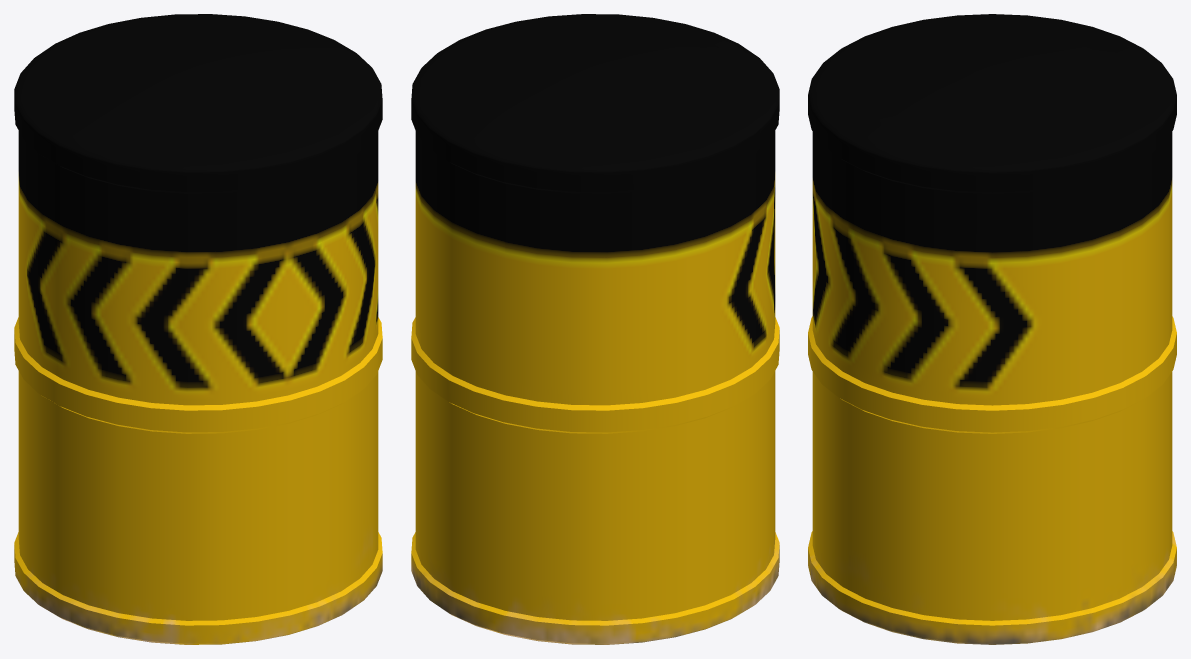
File: Low_OutDoor_02.fbx
3 renders of one model, left to right at view 1: azimuth 30°, elevation 25°; view 2: azimuth 150°, elevation 25°; view 3: azimuth 270°, elevation 25°, orthographic.
Parts seen in each view (by area): view 1: Low_OutDoor_02; view 2: Low_OutDoor_02; view 3: Low_OutDoor_02.
Boxes of the visible parts, x1,y1,x2,y2 form: Low_OutDoor_02: [14, 14, 382, 644]; Low_OutDoor_02: [411, 14, 779, 644]; Low_OutDoor_02: [808, 14, 1176, 644].
Size of the model in its own units: 0.4341 by 0.6518 by 0.4341.
